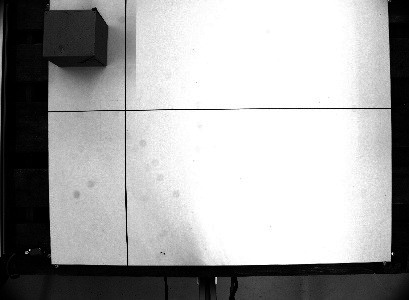b5: (38, 7, 110, 68)
